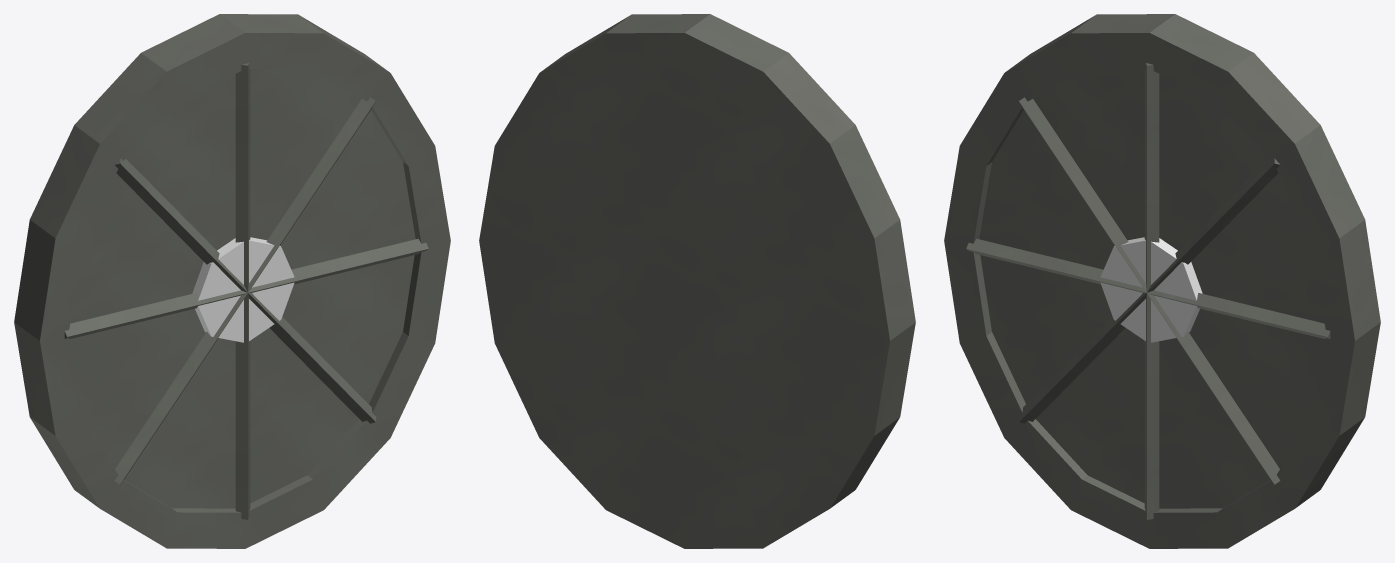
The model's file is WarrensC_WVC043_VaultDoorSkin_Mars_SM.fbx.
3 renders of one model, left to right at view 1: azimuth 30°, elevation 25°; view 2: azimuth 150°, elevation 25°; view 3: azimuth 330°, elevation 25°, orthographic.
Visible parts, largest first — view 1: WarrensC_WVC043_VaultDoorSkin_Mars_SM.001; view 2: WarrensC_WVC043_VaultDoorSkin_Mars_SM.001; view 3: WarrensC_WVC043_VaultDoorSkin_Mars_SM.001.
Boxes of the visible parts, x1,y1,x2,y2 form: WarrensC_WVC043_VaultDoorSkin_Mars_SM.001: (14, 14, 450, 548); WarrensC_WVC043_VaultDoorSkin_Mars_SM.001: (479, 14, 915, 548); WarrensC_WVC043_VaultDoorSkin_Mars_SM.001: (944, 14, 1380, 548).
Bounding box in the file's own units: 250 × 30 × 300.
